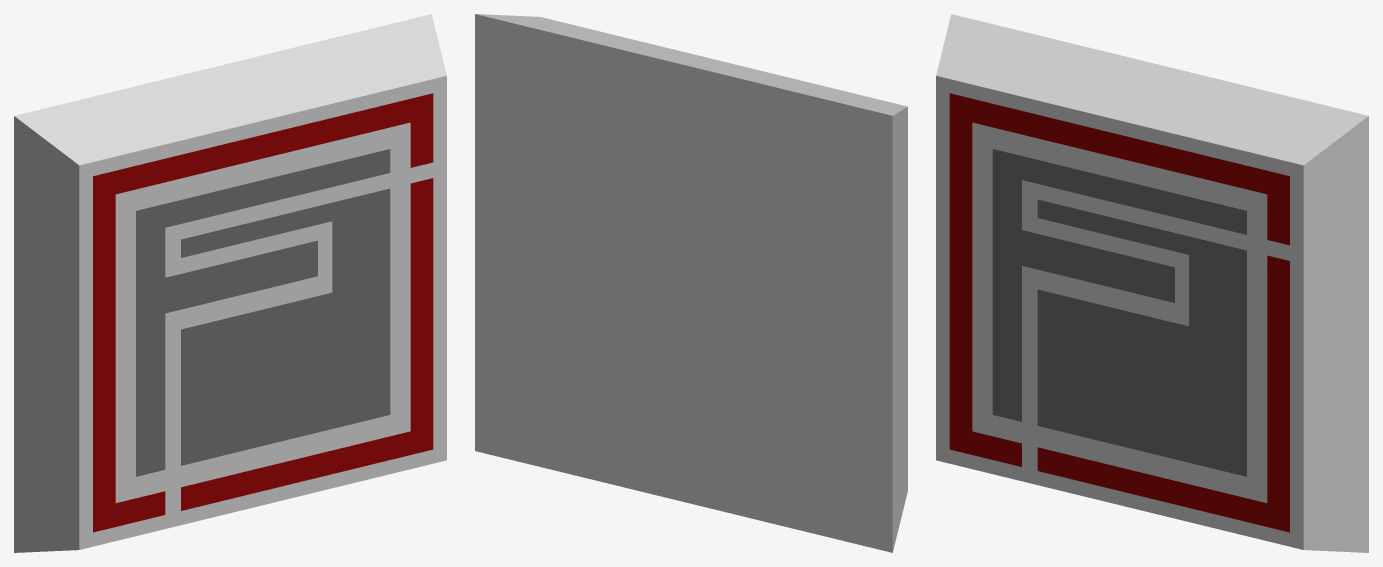
File: SciFi_Semiotic_Photonic_Systems_Fibre_Optics_01.fbx
3 renders of one model, left to right at view 1: azimuth 30°, elevation 25°; view 2: azimuth 150°, elevation 25°; view 3: azimuth 330°, elevation 25°, orthographic.
Parts seen in each view (by area): view 1: Model; view 2: Model; view 3: Model.
Boxes of the visible parts, x1,y1,x2,y2 form: Model: [14, 14, 446, 552]; Model: [475, 14, 907, 552]; Model: [936, 14, 1368, 552].
Bounding box in the file's own units: 251 × 251 × 41.83.
